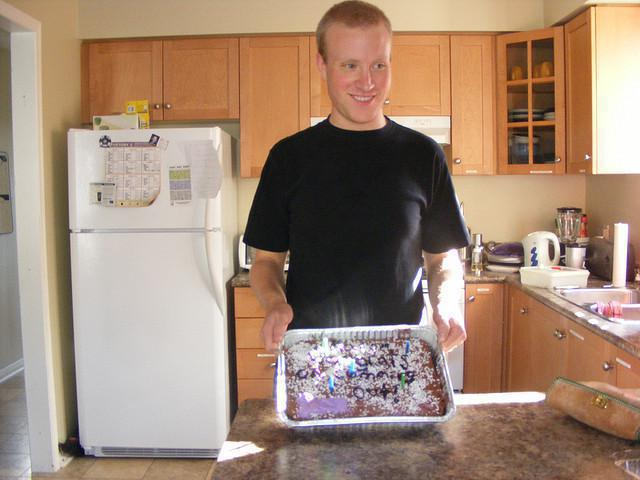Lavaplatos: (549, 270, 639, 330)
